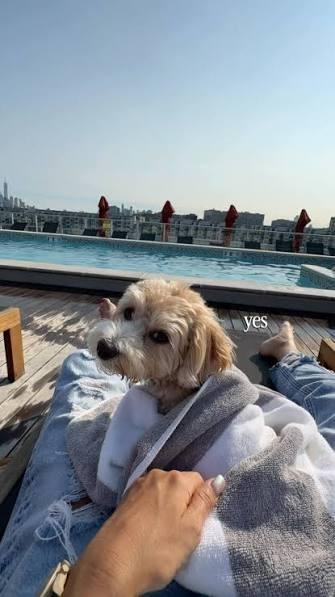adult_dog: (83, 277, 239, 407)
